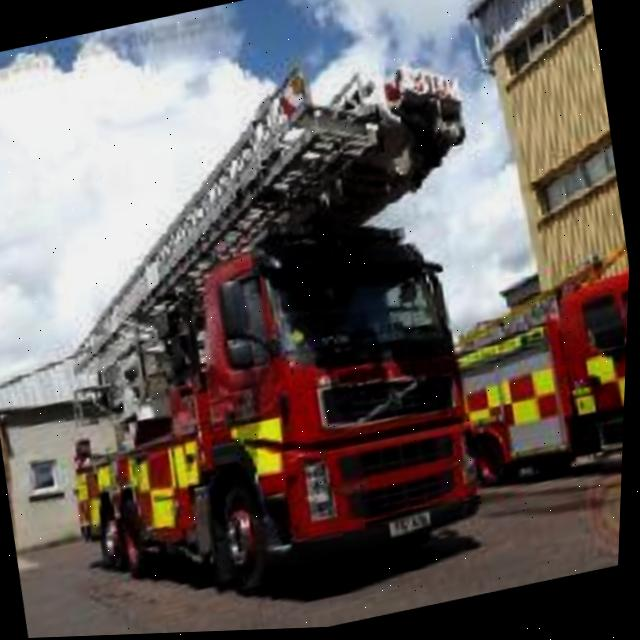emergency: (27, 215, 497, 630), (455, 266, 632, 509)
